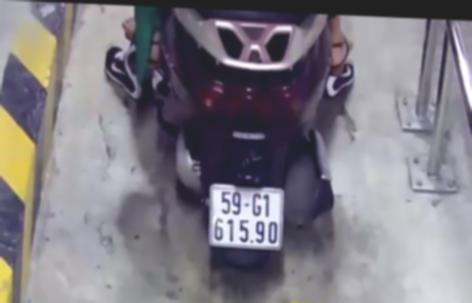License_Plate: (206, 180, 293, 257)
